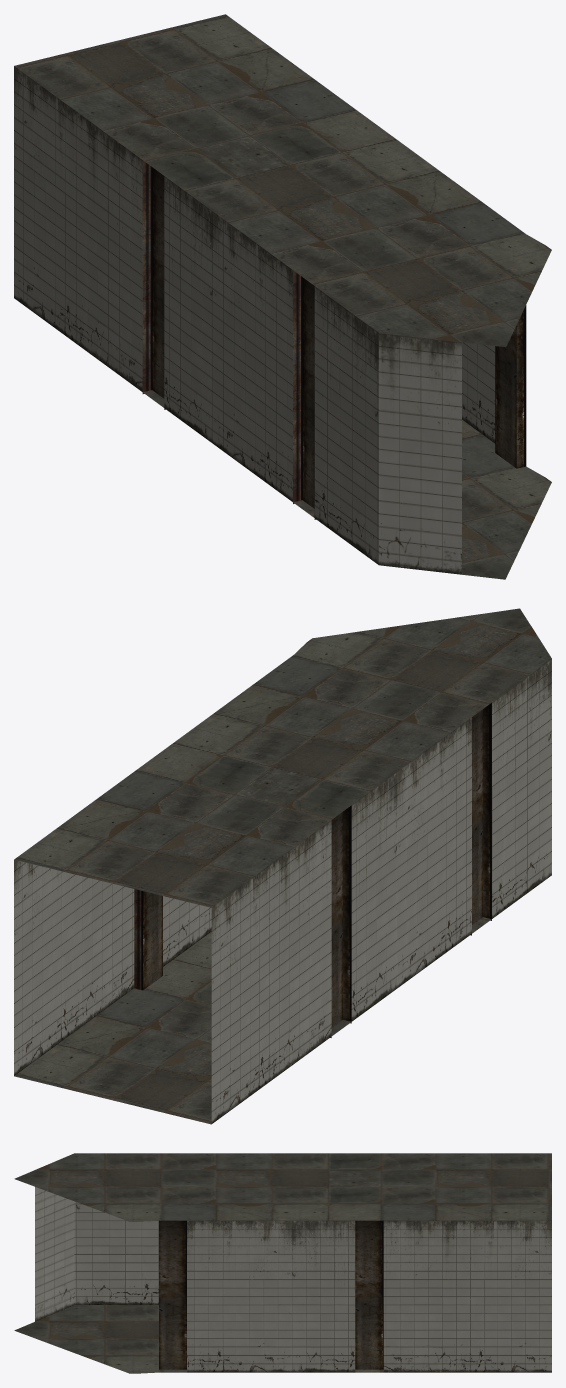
File: SideUpTunnelB.fbx
The picture shows the model from 3 angles, top to bottom: view 1: azimuth 30°, elevation 25°; view 2: azimuth 150°, elevation 25°; view 3: azimuth 270°, elevation 25°; orthographic projection. The views are drawn at different scales.
Parts seen in each view (by area): view 1: SideUpTunnelB; view 2: SideUpTunnelB; view 3: SideUpTunnelB.
Part boxes in pixels (x1,y1,x2,y2): SideUpTunnelB: (14, 14, 551, 579); SideUpTunnelB: (14, 608, 551, 1124); SideUpTunnelB: (14, 1153, 551, 1373).
Size of the model in its own units: 352 by 367 by 1168.
